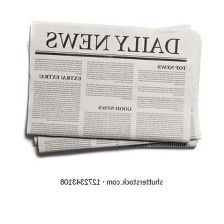news_paper: (15, 19, 203, 159)
